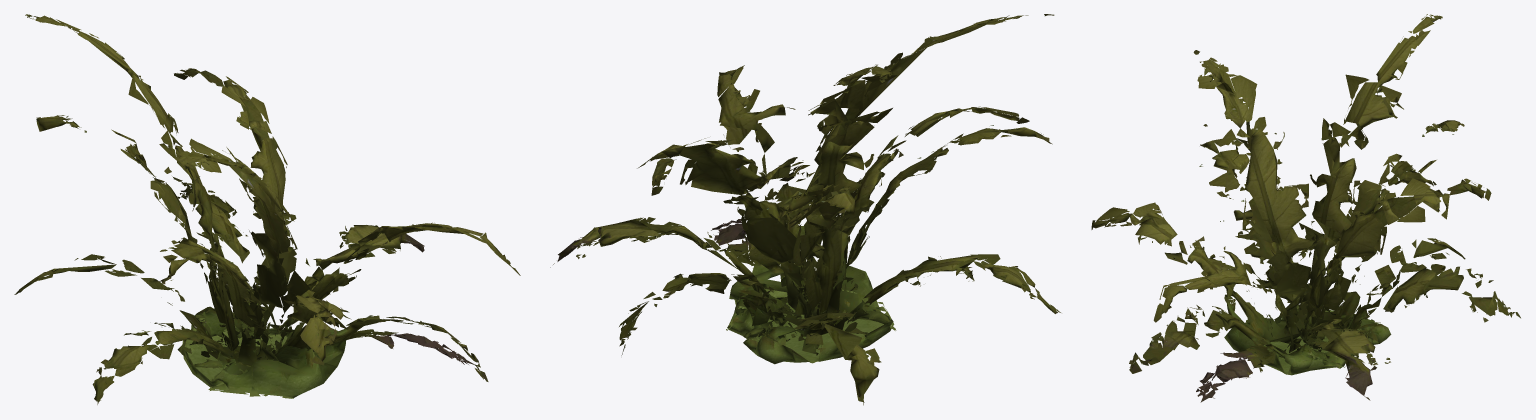
File: SM_Utileria_MandoRemoto_02.fbx
3 views of the same model, side by side, from view 1: azimuth 30°, elevation 25°; view 2: azimuth 150°, elevation 25°; view 3: azimuth 270°, elevation 25° (orthographic). The views are drawn at different scales.
Visible parts, largest first — view 1: SM_Utileria_MandoRemoto_02; view 2: SM_Utileria_MandoRemoto_02; view 3: SM_Utileria_MandoRemoto_02.
Boxes of the visible parts, left/top/right/bottom form: SM_Utileria_MandoRemoto_02: left=14, top=14, right=520, bottom=404; SM_Utileria_MandoRemoto_02: left=550, top=14, right=1060, bottom=405; SM_Utileria_MandoRemoto_02: left=1091, top=14, right=1520, bottom=402.
Size of the model in its own units: 0.8804 by 0.6885 by 0.9901.
Materials: 1 (1 with a texture image).
